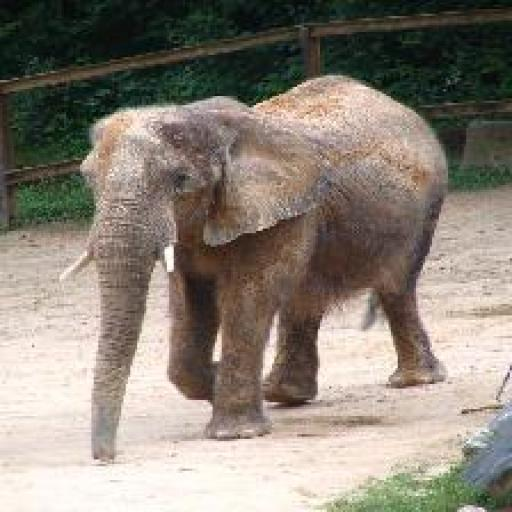Elephant: (57, 73, 448, 462)
